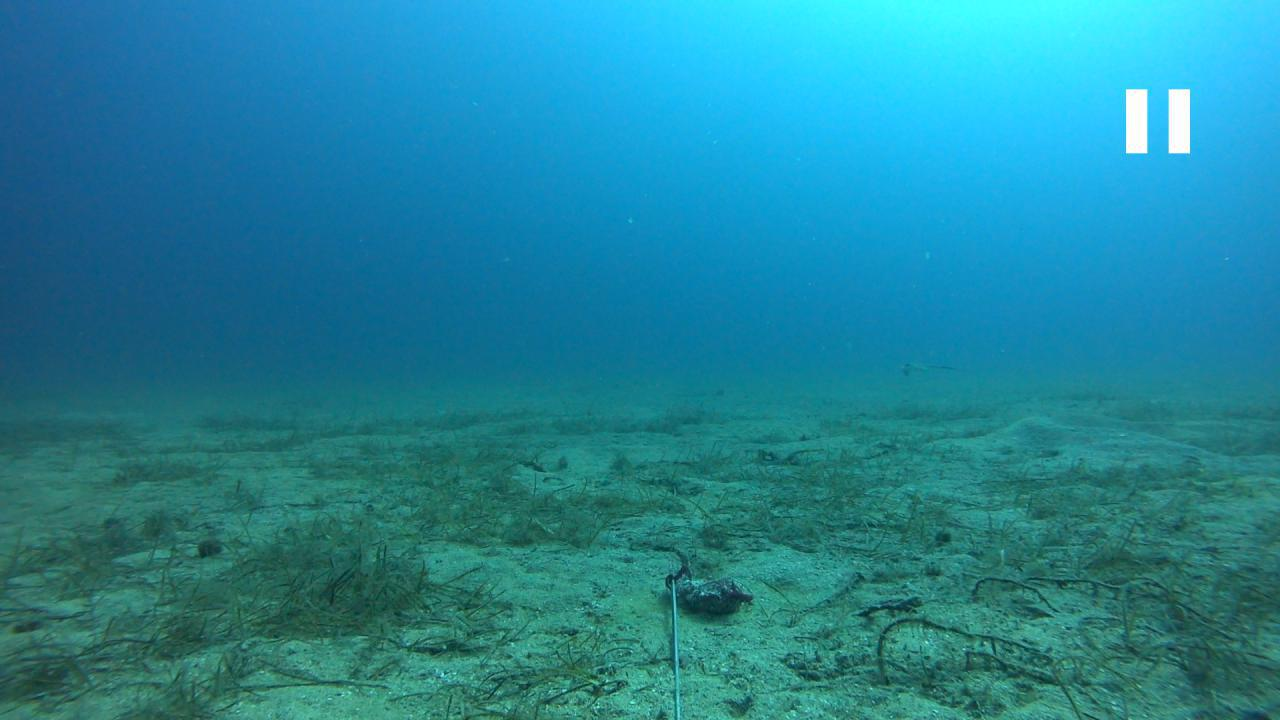dasyatis: (900, 358, 959, 376)
